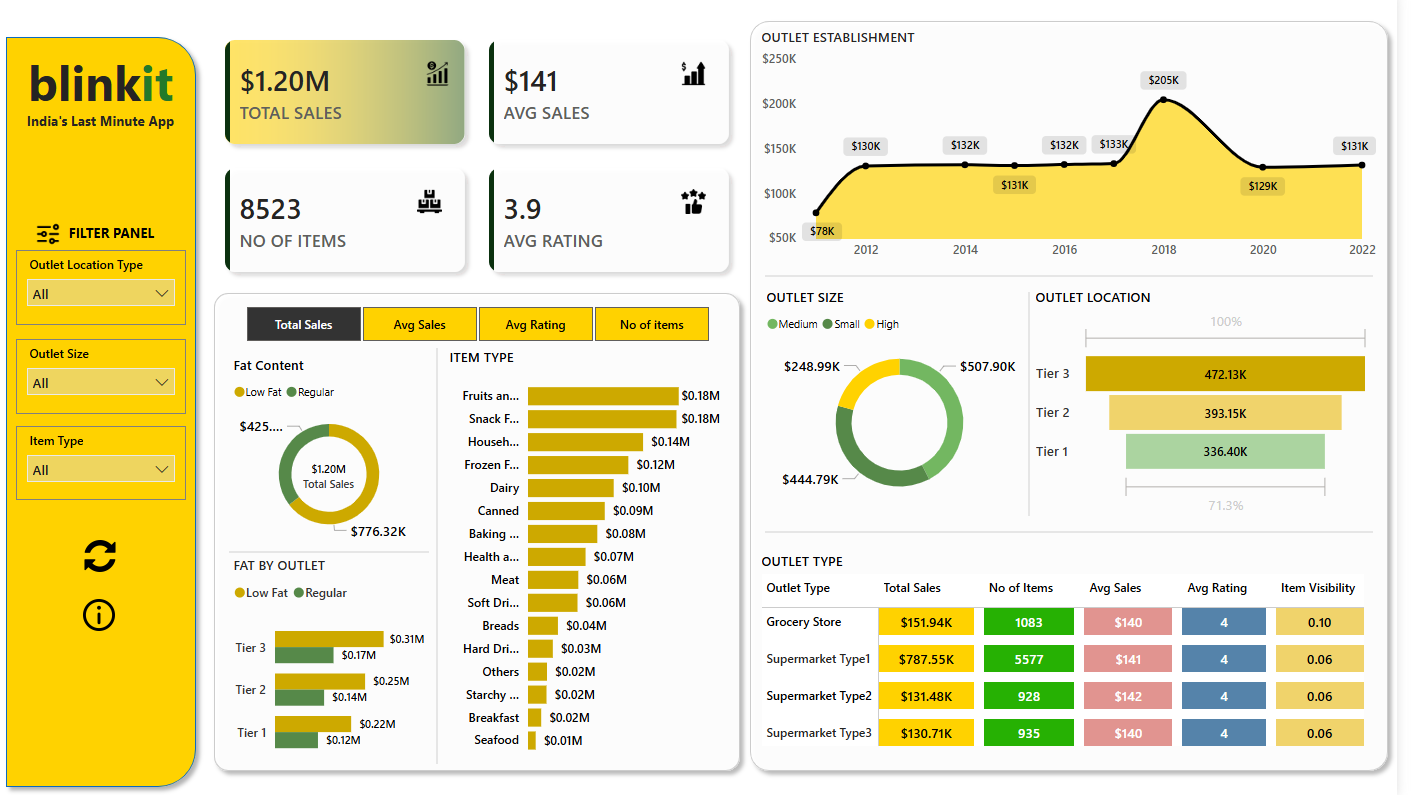

Layout of this report page (visuals, bound fields, positions):
{"tool":"powerbi","page":{"name":"Page 1","canvas":[1400,800],"ordinal":0},"visuals":[{"type":"shape","box":[0,32,208,768],"z":0},{"type":"textbox","box":[63.4,222.6,104,32],"z":0,"group":"g2"},{"type":"donutChart","title":"Fat Content","fields":{"Y":["BlinkIT Grocery Data.Total Sales"],"Category":["BlinkIT Grocery Data.Item Fat Content"]},"box":[232,360,200,192],"z":0,"group":"g1"},{"type":"image","box":[39.4,222.6,24,29],"z":1000,"group":"g2"},{"type":"cardVisual","fields":{"Data":["BlinkIT Grocery Data.Total Sales"]},"box":[268.2,439.9,128.1,79.8],"z":1000,"group":"g1"},{"type":"slicer","fields":{"Values":["BlinkIT Grocery Data.Outlet Location Type"]},"box":[18.7,254.2,170.4,74.9],"z":2000},{"type":"textbox","box":[7.8,47.8,192.2,80],"z":4000},{"type":"slicer","fields":{"Values":["BlinkIT Grocery Data.Outlet Size"]},"box":[18.7,342.9,170.4,74.9],"z":5000},{"type":"textbox","box":[7.8,111.1,192.2,32.2],"z":6000},{"type":"slicer","fields":{"Values":["BlinkIT Grocery Data.Item Type"]},"box":[18.7,429.6,170.4,74.9],"z":7000},{"type":"cardVisual","fields":{"Data":["BlinkIT Grocery Data.Total Sales","BlinkIT Grocery Data.AVG Sales","BlinkIT Grocery Data.Number of items","BlinkIT Grocery Data.Avg Rating"]},"box":[216,32,528,256],"z":8000},{"type":"shape","box":[208,288,544,496],"z":9000},{"type":"slicer","fields":{"Values":["Metrics.Metrics"]},"box":[224,304,512,48],"z":10000},{"type":"clusteredBarChart","title":"FAT BY OUTLET","fields":{"Y":["BlinkIT Grocery Data.Total Sales"],"Category":["BlinkIT Grocery Data.Outlet Location Type"],"Series":["BlinkIT Grocery Data.Item Fat Content"]},"box":[232,560,200,216],"z":11000},{"type":"shape","box":[232,544,200,24],"z":12000},{"type":"shape","box":[432,352,16,416],"z":13000},{"type":"barChart","title":"ITEM TYPE","fields":{"Y":["BlinkIT Grocery Data.Total Sales"],"Category":["BlinkIT Grocery Data.Item Type"]},"box":[448,352,280,416],"z":14000},{"type":"shape","box":[744,16,656,768],"z":15000},{"type":"lineChart","title":"OUTLET ESTABLISHMENT ","fields":{"Y":["BlinkIT Grocery Data.Total Sales"],"Category":["BlinkIT Grocery Data.Outlet Establishment Year"]},"box":[760,32,624,240],"z":16000},{"type":"shape","box":[768,272,608,16],"z":17000},{"type":"shape","box":[1024,296,16,224],"z":18000},{"type":"shape","box":[768,528,608,16],"z":19000},{"type":"donutChart","title":"OUTLET SIZE ","fields":{"Y":["BlinkIT Grocery Data.Total Sales"],"Category":["BlinkIT Grocery Data.Outlet Size"]},"box":[765,292,275,225],"z":20000},{"type":"pivotTable","title":"OUTLET TYPE","fields":{"Rows":["BlinkIT Grocery Data.Outlet Type"],"Values":["BlinkIT Grocery Data.Total Sales","BlinkIT Grocery Data.No of Items","BlinkIT Grocery Data.Avg Sales","BlinkIT Grocery Data.AVG RATING","Avg(BlinkIT Grocery Data.Item Visibility)"]},"box":[760,555.6,624.4,207.8],"z":21000},{"type":"funnel","title":"OUTLET LOCATION ","fields":{"Y":["Sum(BlinkIT Grocery Data.Sales)"],"Category":["BlinkIT Grocery Data.Outlet Location Type"]},"box":[1034,292,344,232],"z":22000},{"type":"group","id":"g1","title":"Group 3","box":[232,360,200,192],"z":23000},{"type":"actionButton","title":"Rest Button","box":[79,540,49,40],"z":24000},{"type":"textbox","box":[174.4,477.8,247.3,204.9],"z":28000},{"type":"group","id":"g2","title":"Group 1","box":[39.4,222.6,128,32],"z":28500},{"type":"actionButton","title":"Info Button","box":[78,599,49,40],"z":29000}]}

Visuals, with their boxes in screenshot pixels (x1, y1, x2, y2), scaled from the page's 1400x800 canvas onto the 1411x795 screenshot:
shape: (0,32,210,794)
textbox: (64,221,169,253)
"Fat Content" donutChart: (234,358,435,549)
image: (40,221,64,250)
cardVisual - BlinkIT Grocery Data.Total Sales: (270,437,399,516)
slicer - BlinkIT Grocery Data.Outlet Location Type: (19,253,191,327)
textbox: (8,48,202,127)
slicer - BlinkIT Grocery Data.Outlet Size: (19,341,191,415)
textbox: (8,110,202,142)
slicer - BlinkIT Grocery Data.Item Type: (19,427,191,501)
cardVisual - BlinkIT Grocery Data.Total Sales x BlinkIT Grocery Data.AVG Sales: (218,32,750,286)
shape: (210,286,758,779)
slicer - Metrics.Metrics: (226,302,742,350)
"FAT BY OUTLET" clusteredBarChart: (234,556,435,771)
shape: (234,541,435,564)
shape: (435,350,452,763)
"ITEM TYPE" barChart: (452,350,734,763)
shape: (750,16,1410,779)
"OUTLET ESTABLISHMENT " lineChart: (766,32,1395,270)
shape: (774,270,1387,286)
shape: (1032,294,1048,517)
shape: (774,525,1387,541)
"OUTLET SIZE " donutChart: (771,290,1048,514)
"OUTLET TYPE" pivotTable: (766,552,1395,759)
"OUTLET LOCATION " funnel: (1042,290,1389,521)
"Group 3" group: (234,358,435,549)
"Rest Button" actionButton: (80,537,129,576)
textbox: (176,475,425,678)
"Group 1" group: (40,221,169,253)
"Info Button" actionButton: (79,595,128,635)
